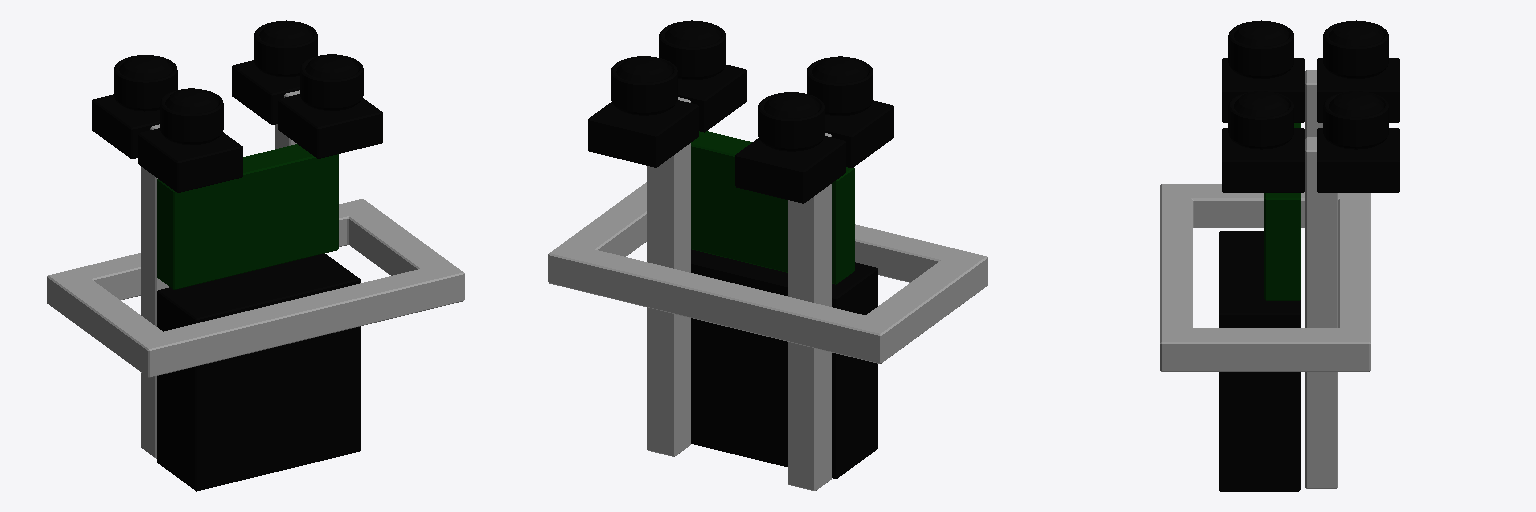
robot.urdf — myfirst:
<?xml version="1.0"?>
<robot name="myfirst">
	<link name="cam1">
		<visual>
			<geometry>
				<mesh filename="package://shuttum/ShutTUM.dae" />
			</geometry>
		</visual>
	</link>
</robot>

--- Render facts (derived) ---
The picture shows the robot from 3 angles, left to right: view 1: azimuth 30°, elevation 25°; view 2: azimuth 150°, elevation 25°; view 3: azimuth 270°, elevation 25°; orthographic projection.
Model myfirst with 1 links and 0 joints (none), rooted at cam1, posed every joint at zero.
Links seen in each view (by area): view 1: cam1; view 2: cam1; view 3: cam1.
Link boxes in pixels (box(x1,y1,x2,y2)): cam1: box(47, 20, 464, 491); cam1: box(548, 20, 987, 490); cam1: box(1160, 20, 1399, 491).
Bounding box of the posed robot: 0.23 × 0.1461 × 0.2629 m (x, y, z).
1 mesh visuals loaded from 1 distinct referenced files (1 Collada DAE).
